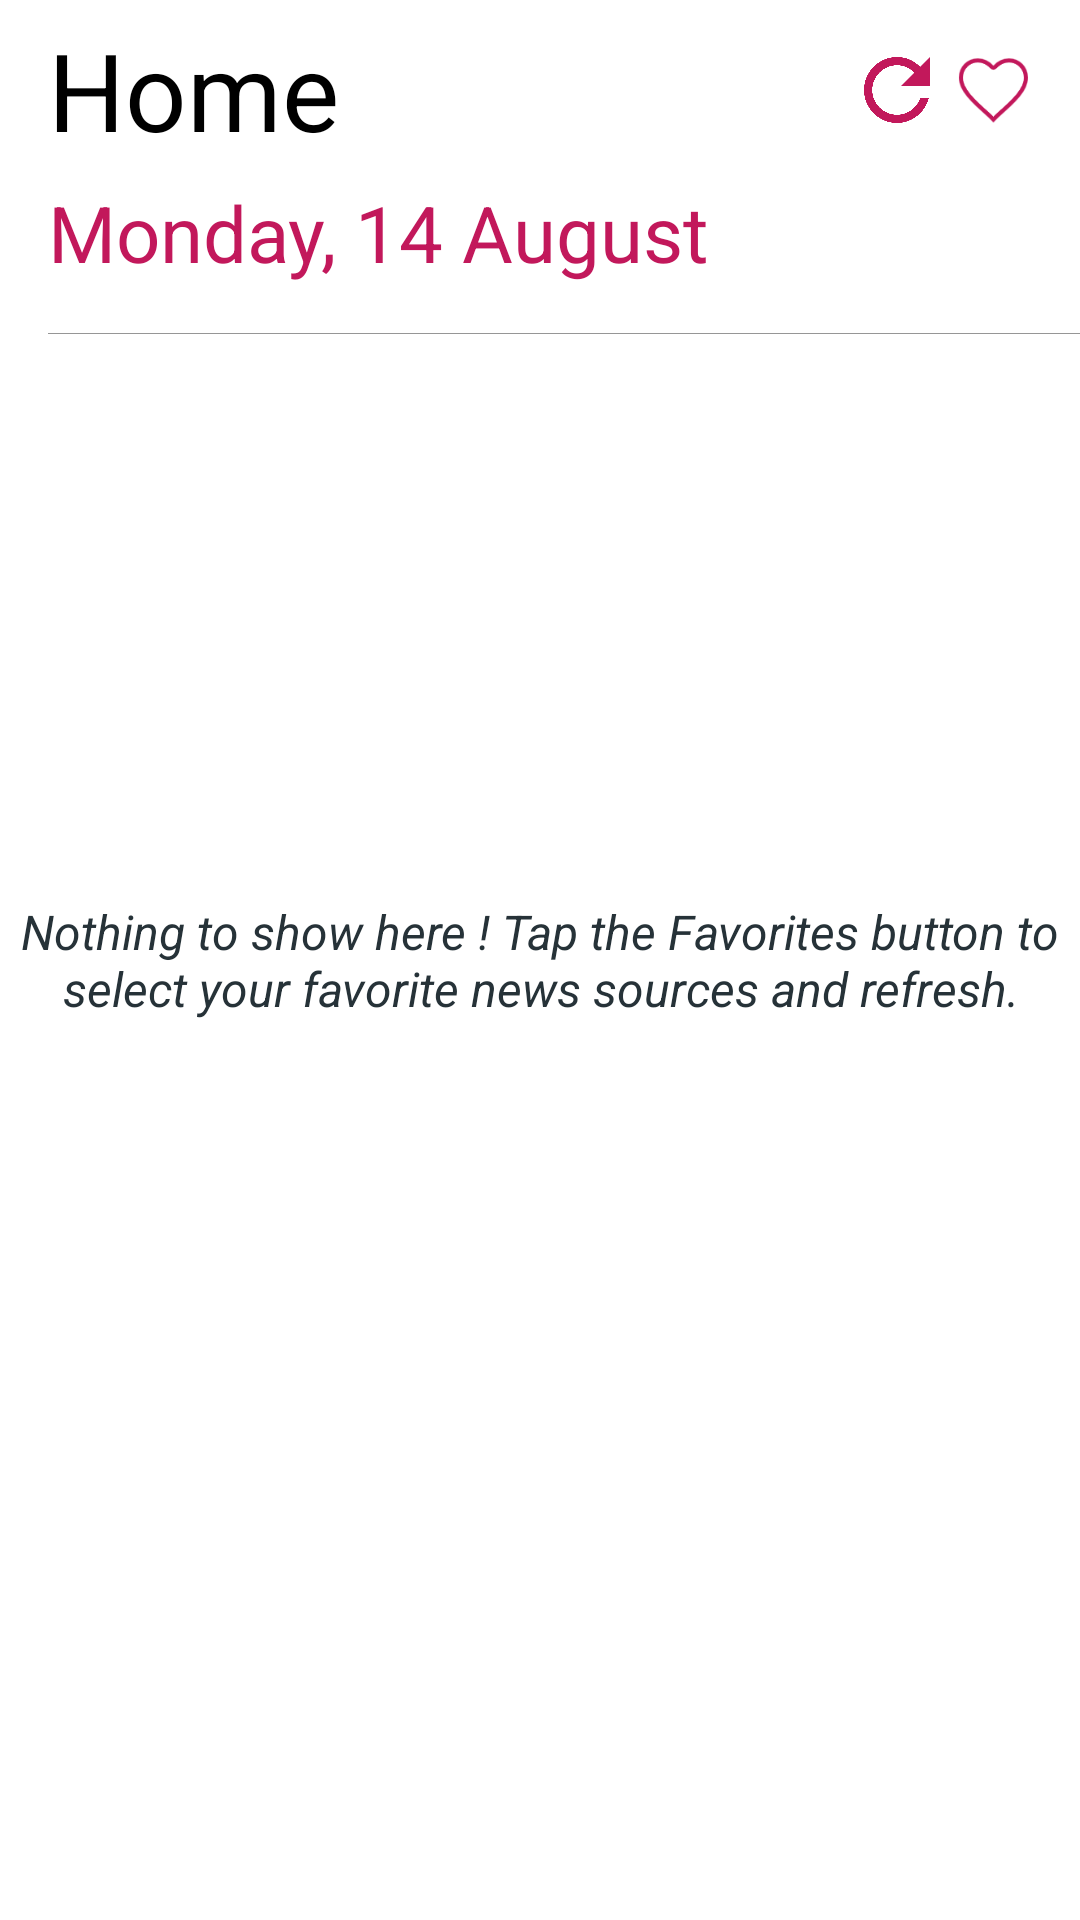

Icon bounding boxes for this 1080*1920 phone screenshot, format (x1, y1, x2, y2):
favorite: (959, 58, 1028, 123)
